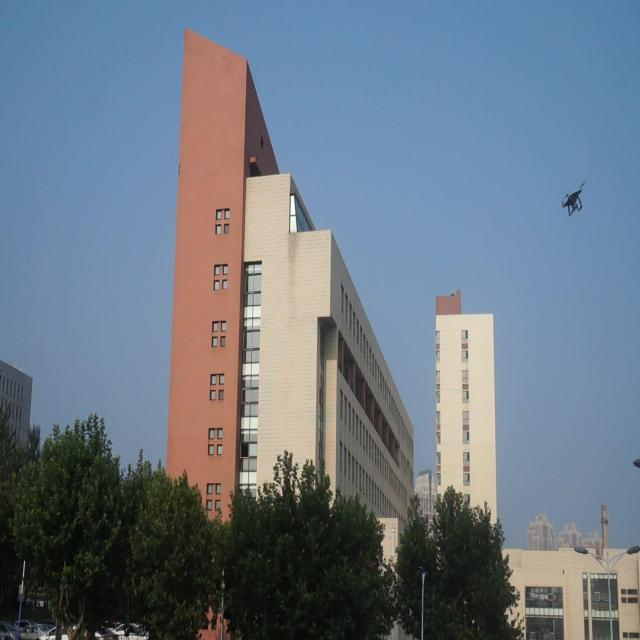UAV: (562, 180, 587, 216)
